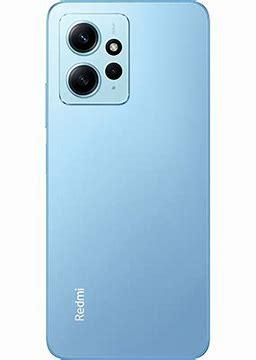Smart Phone: (44, 0, 212, 360)
